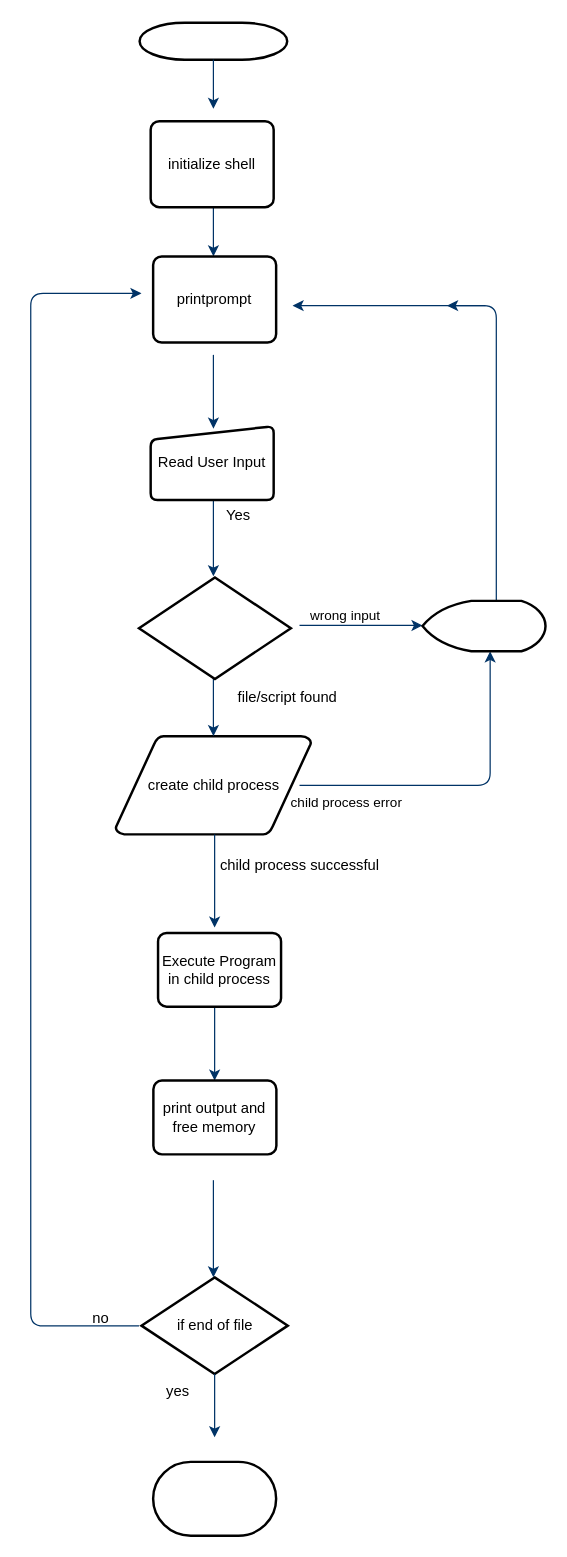
Some shapes in this 567 by 1557 pixel diagram are drawn without their labels. The centre of each missing label's shape, as x and y in pixels:
"Exit" goes at point (214, 1498).
"parse input" goes at point (214, 628).
"print error" goes at point (483, 625).
"start" goes at point (213, 40).
